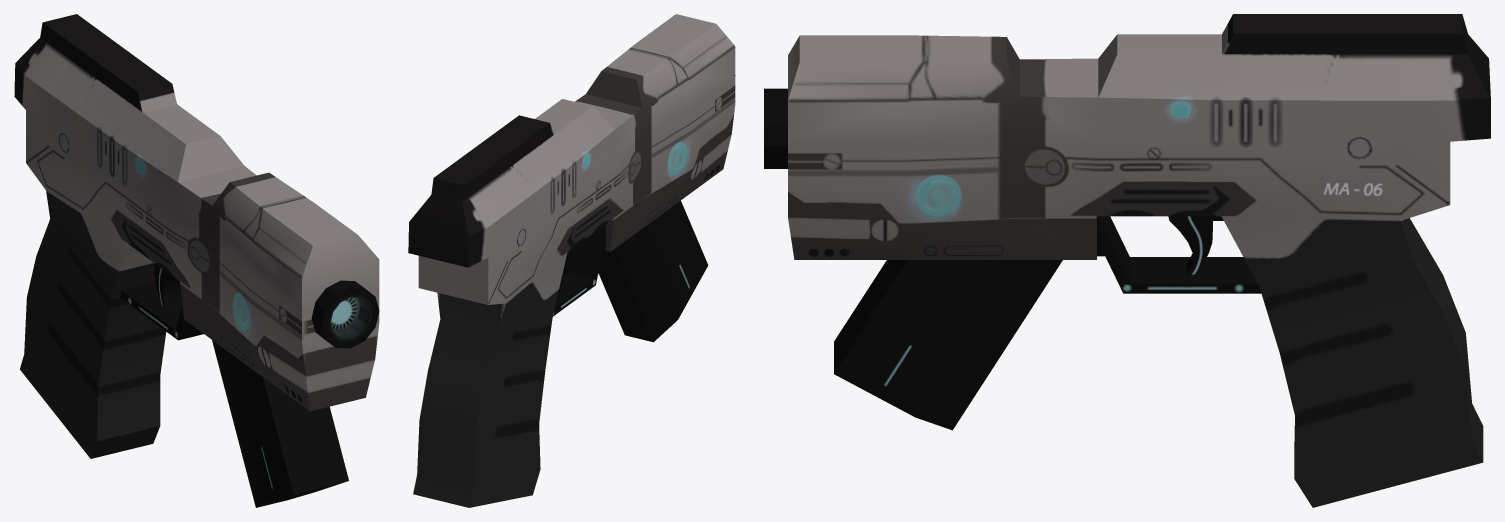
Rendered from SciFiHandGun.fbx.
3 renders of one model, left to right at view 1: azimuth 30°, elevation 25°; view 2: azimuth 150°, elevation 25°; view 3: azimuth 270°, elevation 25°, orthographic. The views are drawn at different scales.
Visible parts, largest first — view 1: GunMain, GunClip, GunCylinder, GunTriggerCover, GunTrigger; view 2: GunMain, GunClip, GunTriggerCover; view 3: GunMain, GunClip, GunTriggerCover, GunCylinder, GunTrigger.
Part boxes in pixels (x1,y1,x2,y2): GunMain: (14,14,379,458); GunClip: (212,340,348,507); GunCylinder: (311,280,379,348); GunTriggerCover: (120,282,203,340); GunTrigger: (154,263,182,308); GunMain: (408,14,735,507); GunClip: (598,200,708,342); GunTriggerCover: (552,225,605,316); GunMain: (788,14,1490,507); GunClip: (834,260,1062,430); GunTriggerCover: (1096,216,1261,293); GunCylinder: (764,88,787,168); GunTrigger: (1168,216,1223,274).
Size of the model in its own units: 4.21 by 20.16 by 28.53.
1 material, 1 textured.
